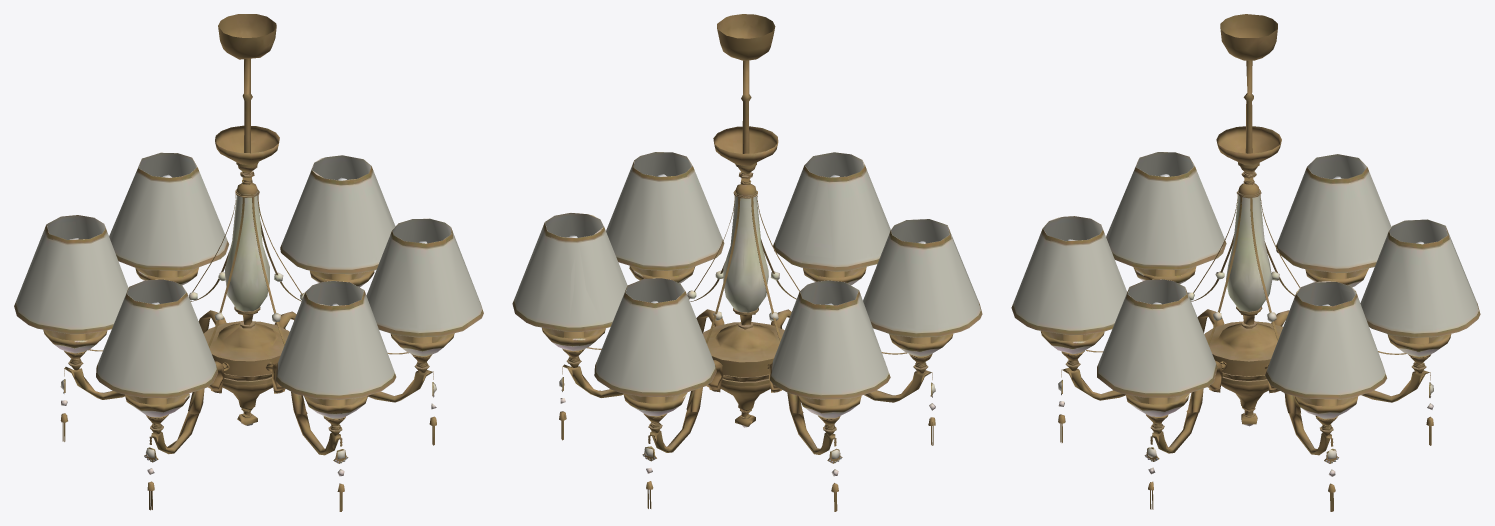
The model's file is Chandelier_01.glb.
3 views of the same model, side by side, from view 1: azimuth 30°, elevation 25°; view 2: azimuth 150°, elevation 25°; view 3: azimuth 270°, elevation 25° (orthographic).
Parts seen in each view (by area): view 1: Chandelier_01; view 2: Chandelier_01; view 3: Chandelier_01.
Boxes of the visible parts, x1,y1,x2,y2 form: Chandelier_01: [14, 14, 483, 511]; Chandelier_01: [512, 14, 982, 511]; Chandelier_01: [1011, 14, 1480, 511].
Size of the model in its own units: 0.7426 by 0.7983 by 0.8155.
2 materials, 1 textured.
